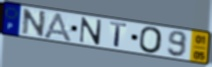9: (166, 30, 189, 58)
A: (41, 12, 74, 44)
N: (21, 8, 48, 39), (78, 17, 104, 47)
O: (138, 26, 164, 54)
T: (109, 20, 129, 49)
